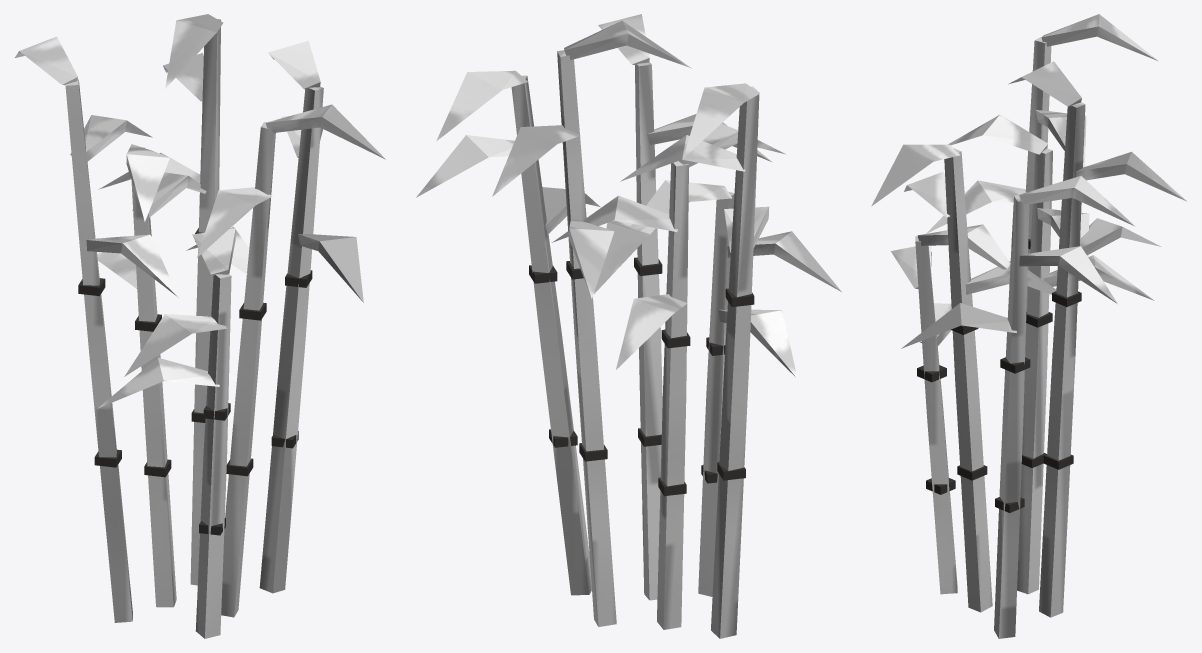
The model's file is tree_bamboo_2.obj.
3 renders of one model, left to right at view 1: azimuth 30°, elevation 25°; view 2: azimuth 150°, elevation 25°; view 3: azimuth 270°, elevation 25°, orthographic. The views are drawn at different scales.
Parts seen in each view (by area): view 1: tree_bamboo_2; view 2: tree_bamboo_2; view 3: tree_bamboo_2.
Part boxes in pixels (x1,y1,x2,y2): tree_bamboo_2: (15,14,385,638); tree_bamboo_2: (416,14,841,638); tree_bamboo_2: (871,14,1186,638).
Size of the model in its own units: 0.6024 by 1.08 by 0.5733.
